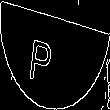P_N: (41, 26, 69, 84)
